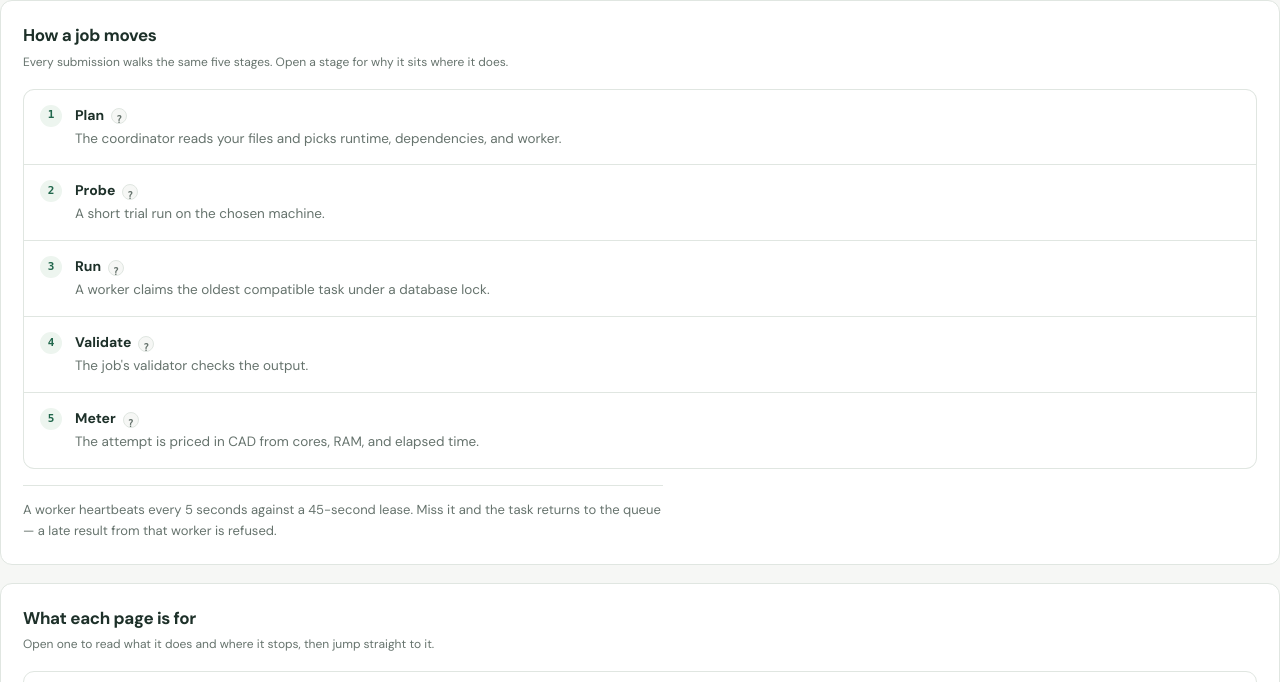
Guide › reveals a stage's reasoning from its question mark
The image size is (1280, 682).
Expected: the list item "Probe" is shown, [75,181,115,199]
Expected: the text "fails here in seconds" is not shown
What coordinates should you click on to do the following:
click the heading named "why it works this way"
I would click on:
 (130, 192)
Its box is [122,184,138,200].
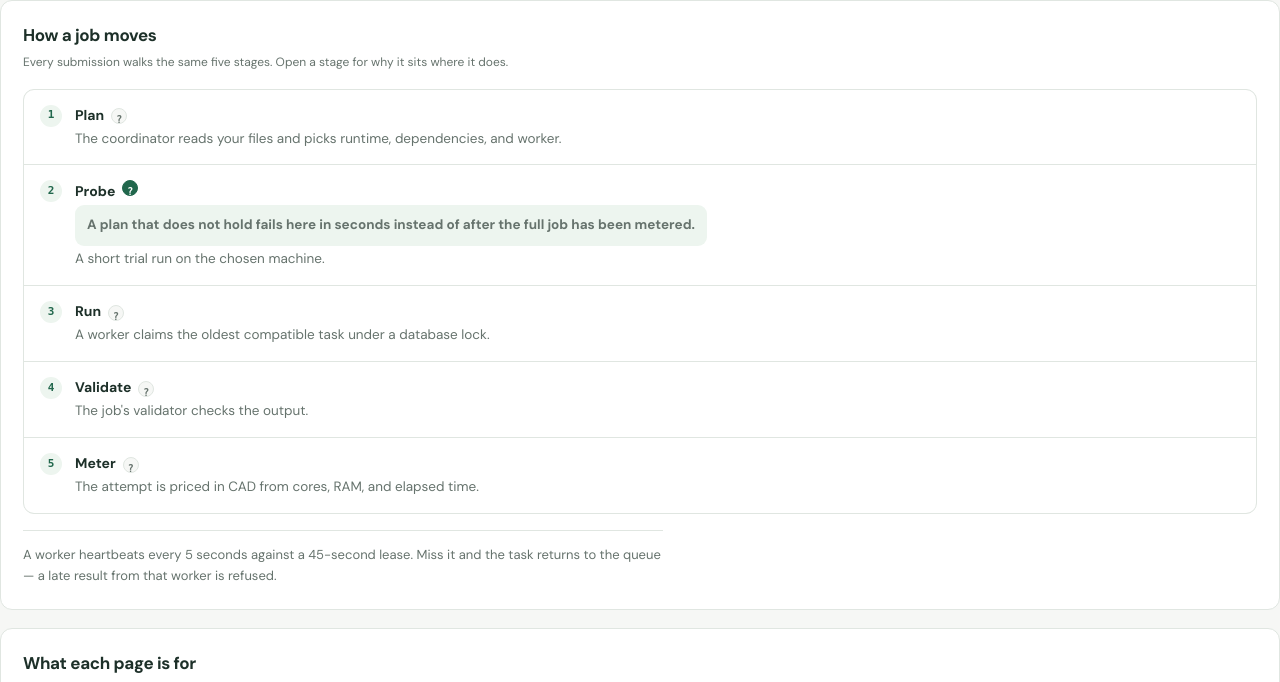
Now the text "fails here in seconds" is shown, box [87,216,695,233]
